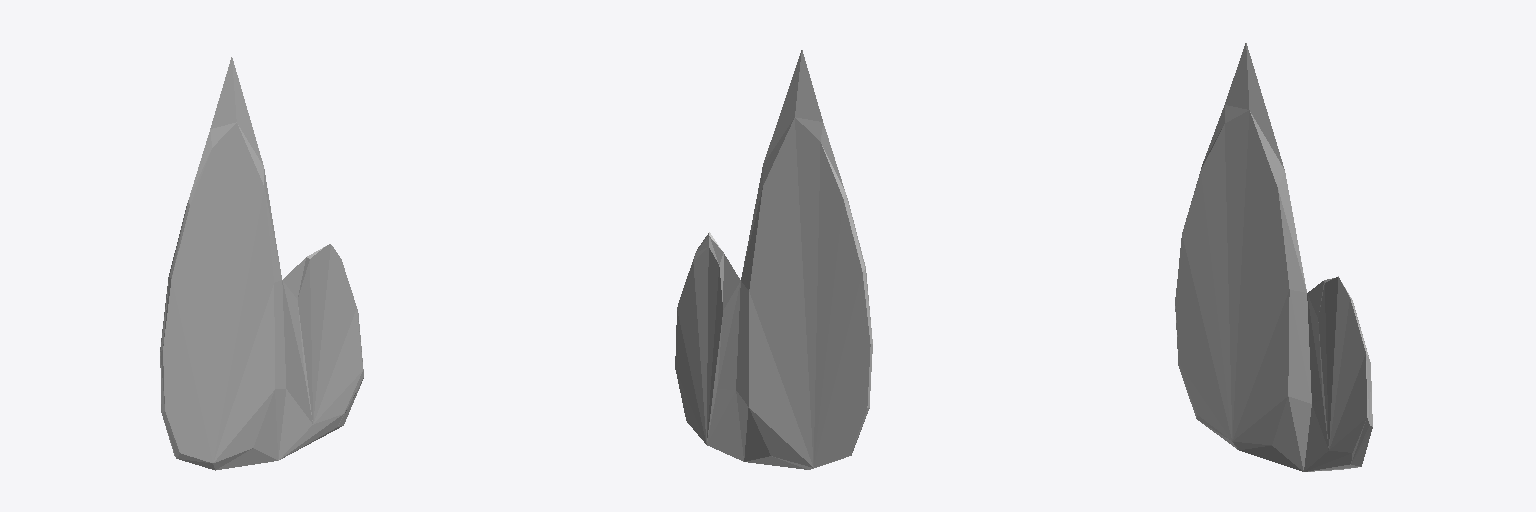
The model's file is grass.obj.
The picture shows the model from 3 angles: view 1: azimuth 30°, elevation 25°; view 2: azimuth 150°, elevation 25°; view 3: azimuth 330°, elevation 25°; orthographic projection.
Parts seen in each view (by area): view 1: Cube; view 2: Cube; view 3: Cube.
Boxes of the visible parts, x1=… form: Cube: x1=160, y1=57, x2=363, y2=470; Cube: x1=675, y1=50, x2=872, y2=469; Cube: x1=1175, y1=43, x2=1372, y2=471.
Bounding box in the file's own units: 0.5932 × 1.19 × 0.1033.